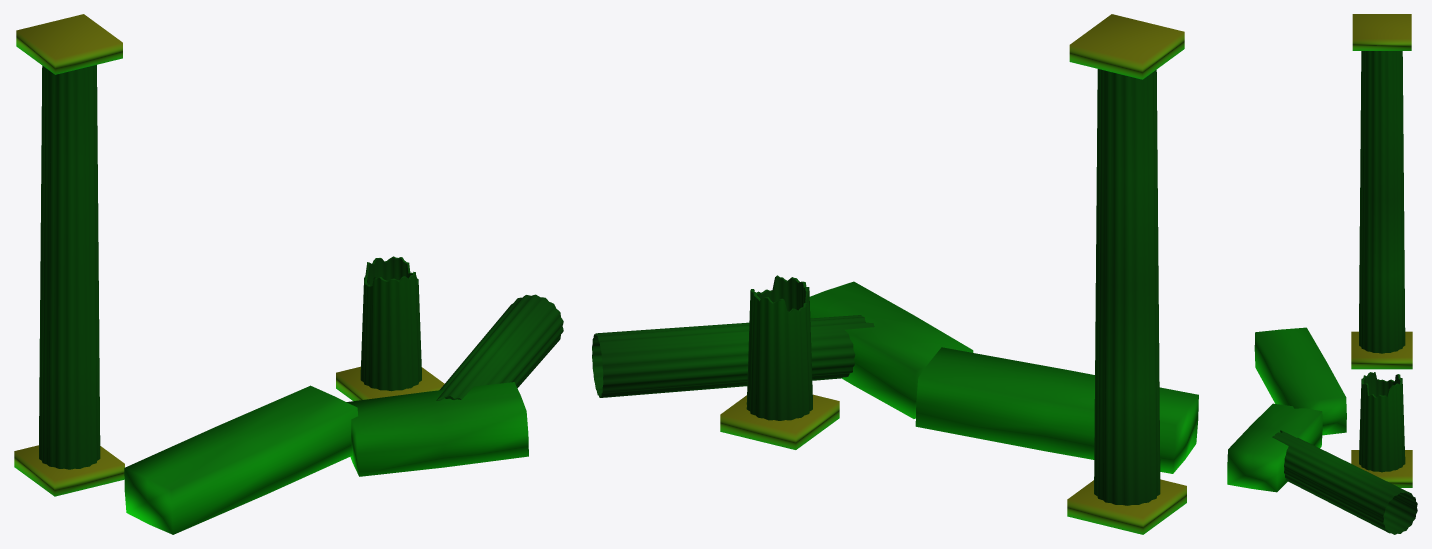
File: iskarra_arch_fallen.glb
3 renders of one model, left to right at view 1: azimuth 30°, elevation 25°; view 2: azimuth 150°, elevation 25°; view 3: azimuth 270°, elevation 25°, orthographic. The views are drawn at different scales.
Visible parts, largest first — view 1: iskarra_arch_fallen; view 2: iskarra_arch_fallen; view 3: iskarra_arch_fallen.
Boxes of the visible parts, <box> form: iskarra_arch_fallen: <box>14,14,563,534</box>; iskarra_arch_fallen: <box>592,14,1198,534</box>; iskarra_arch_fallen: <box>1227,14,1417,534</box>.
Size of what is drawn, in the model's own units: 12.52 by 9.99 by 5.16.
